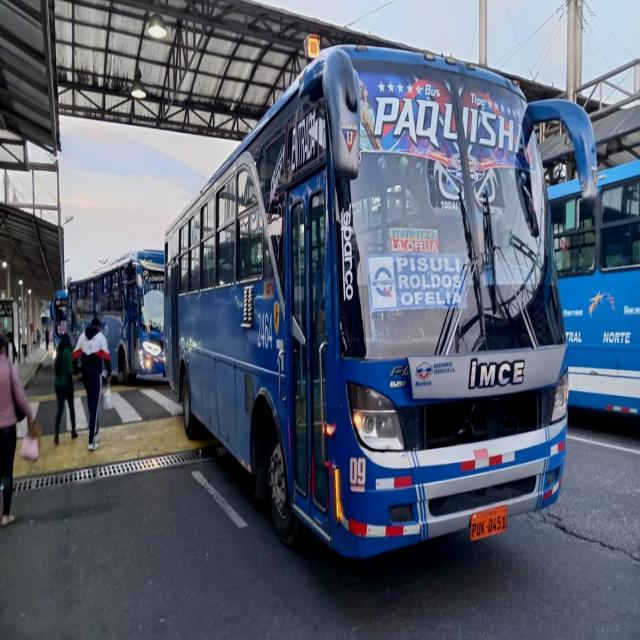BUS: (165, 39, 580, 573)
